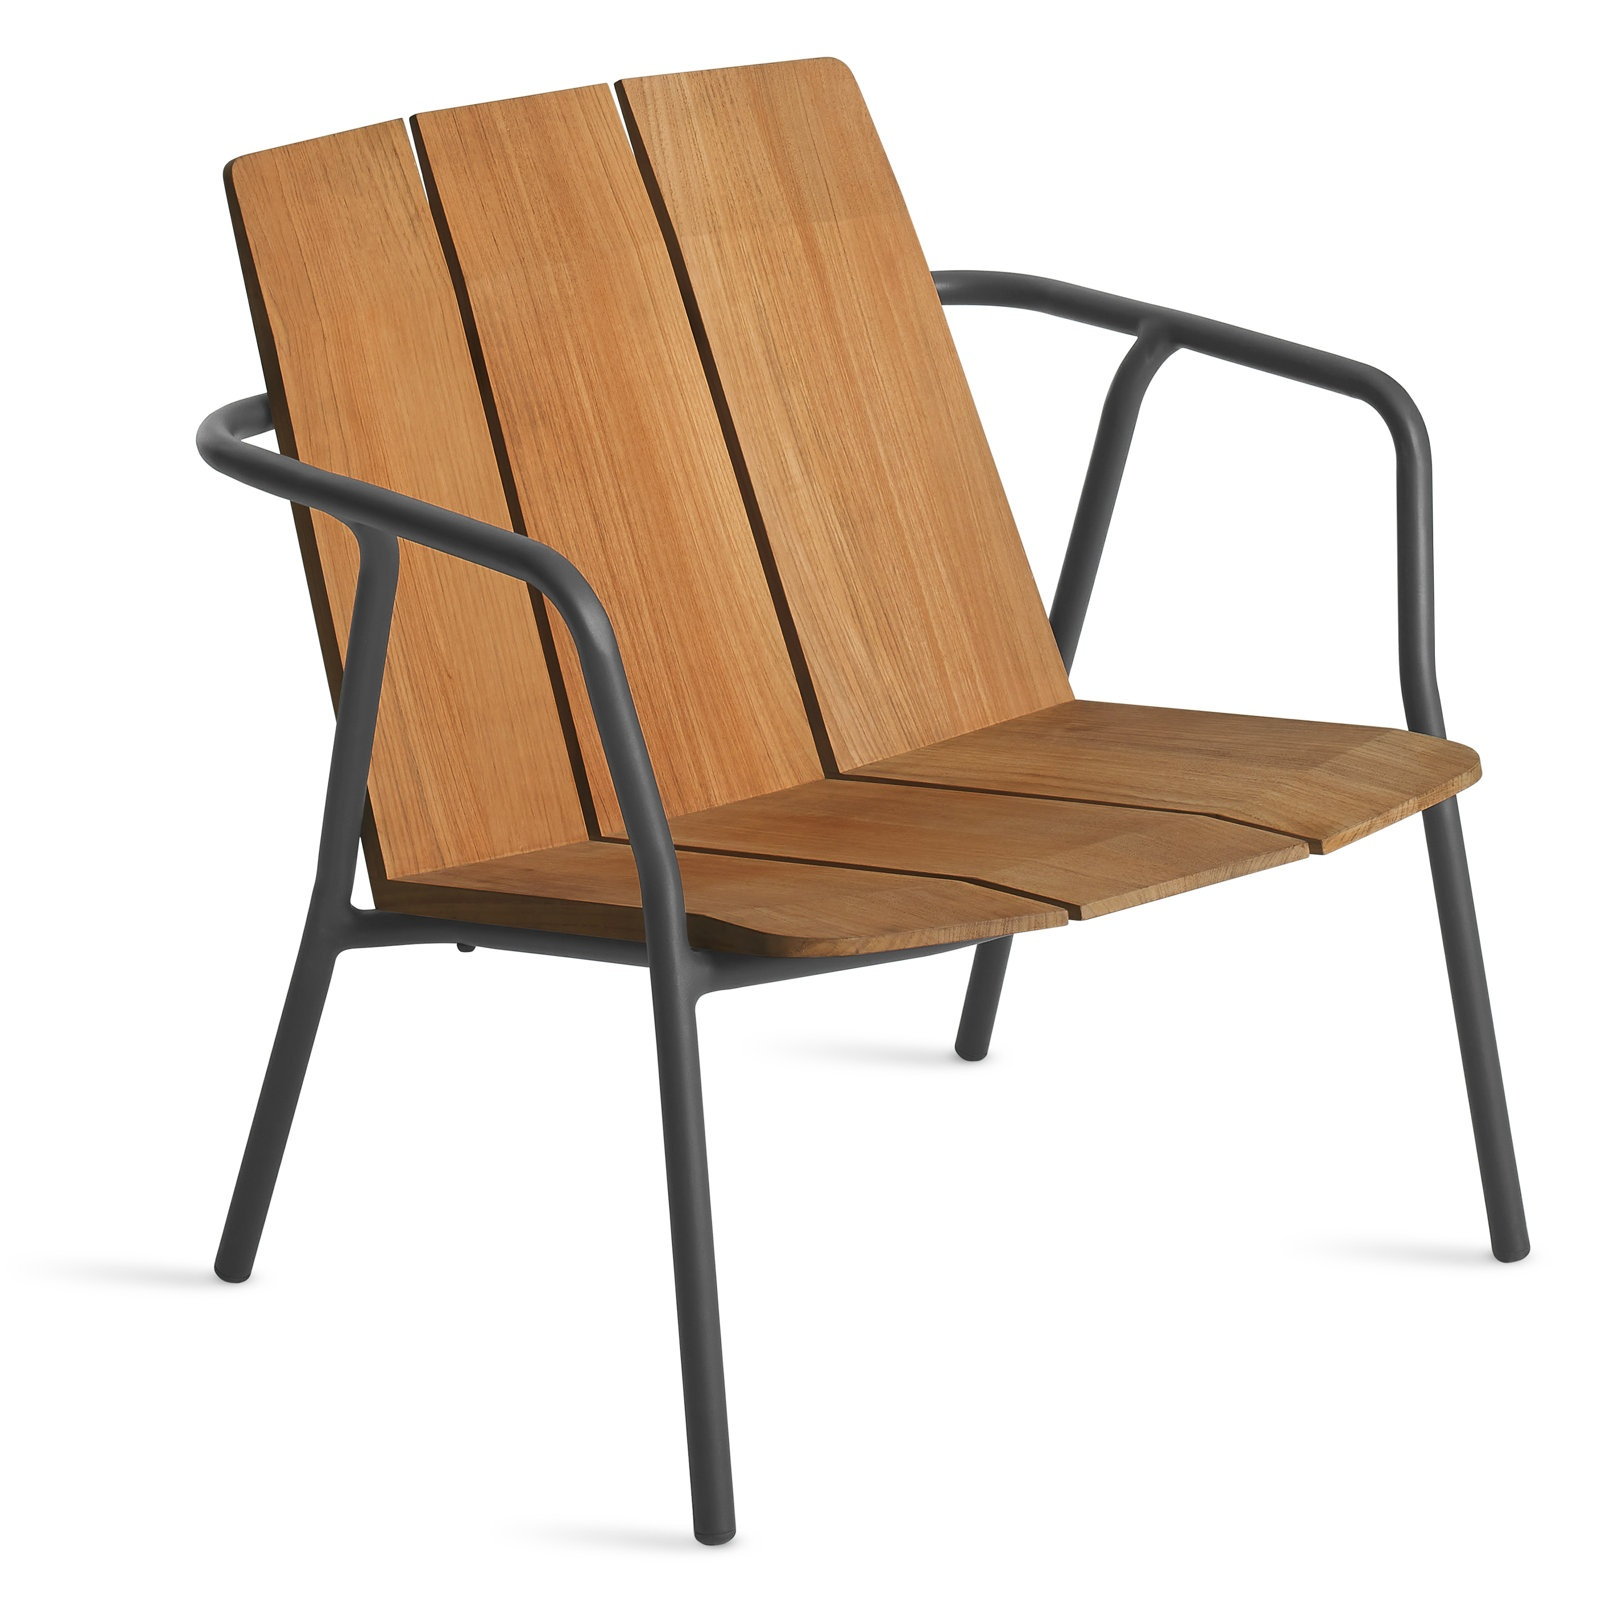obstacle: (201, 60, 1527, 1541)
